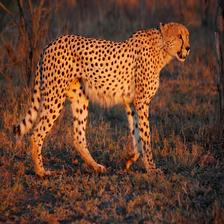Cheetah: (11, 20, 193, 180)
